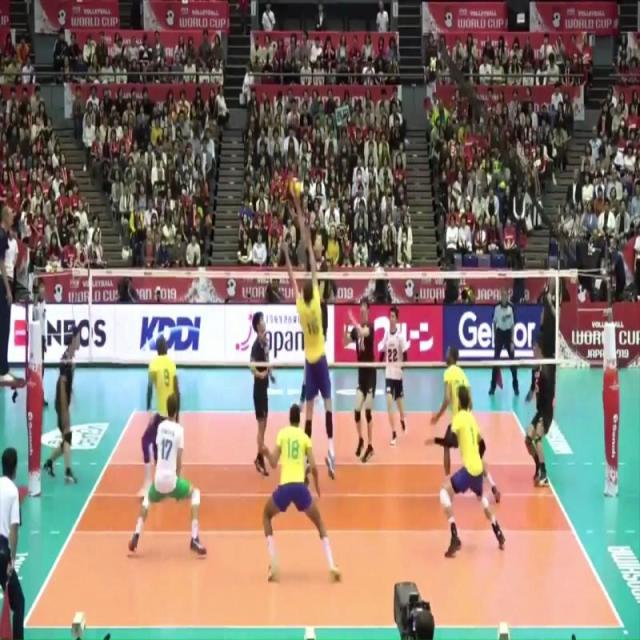volleyball: (287, 173, 302, 200)
